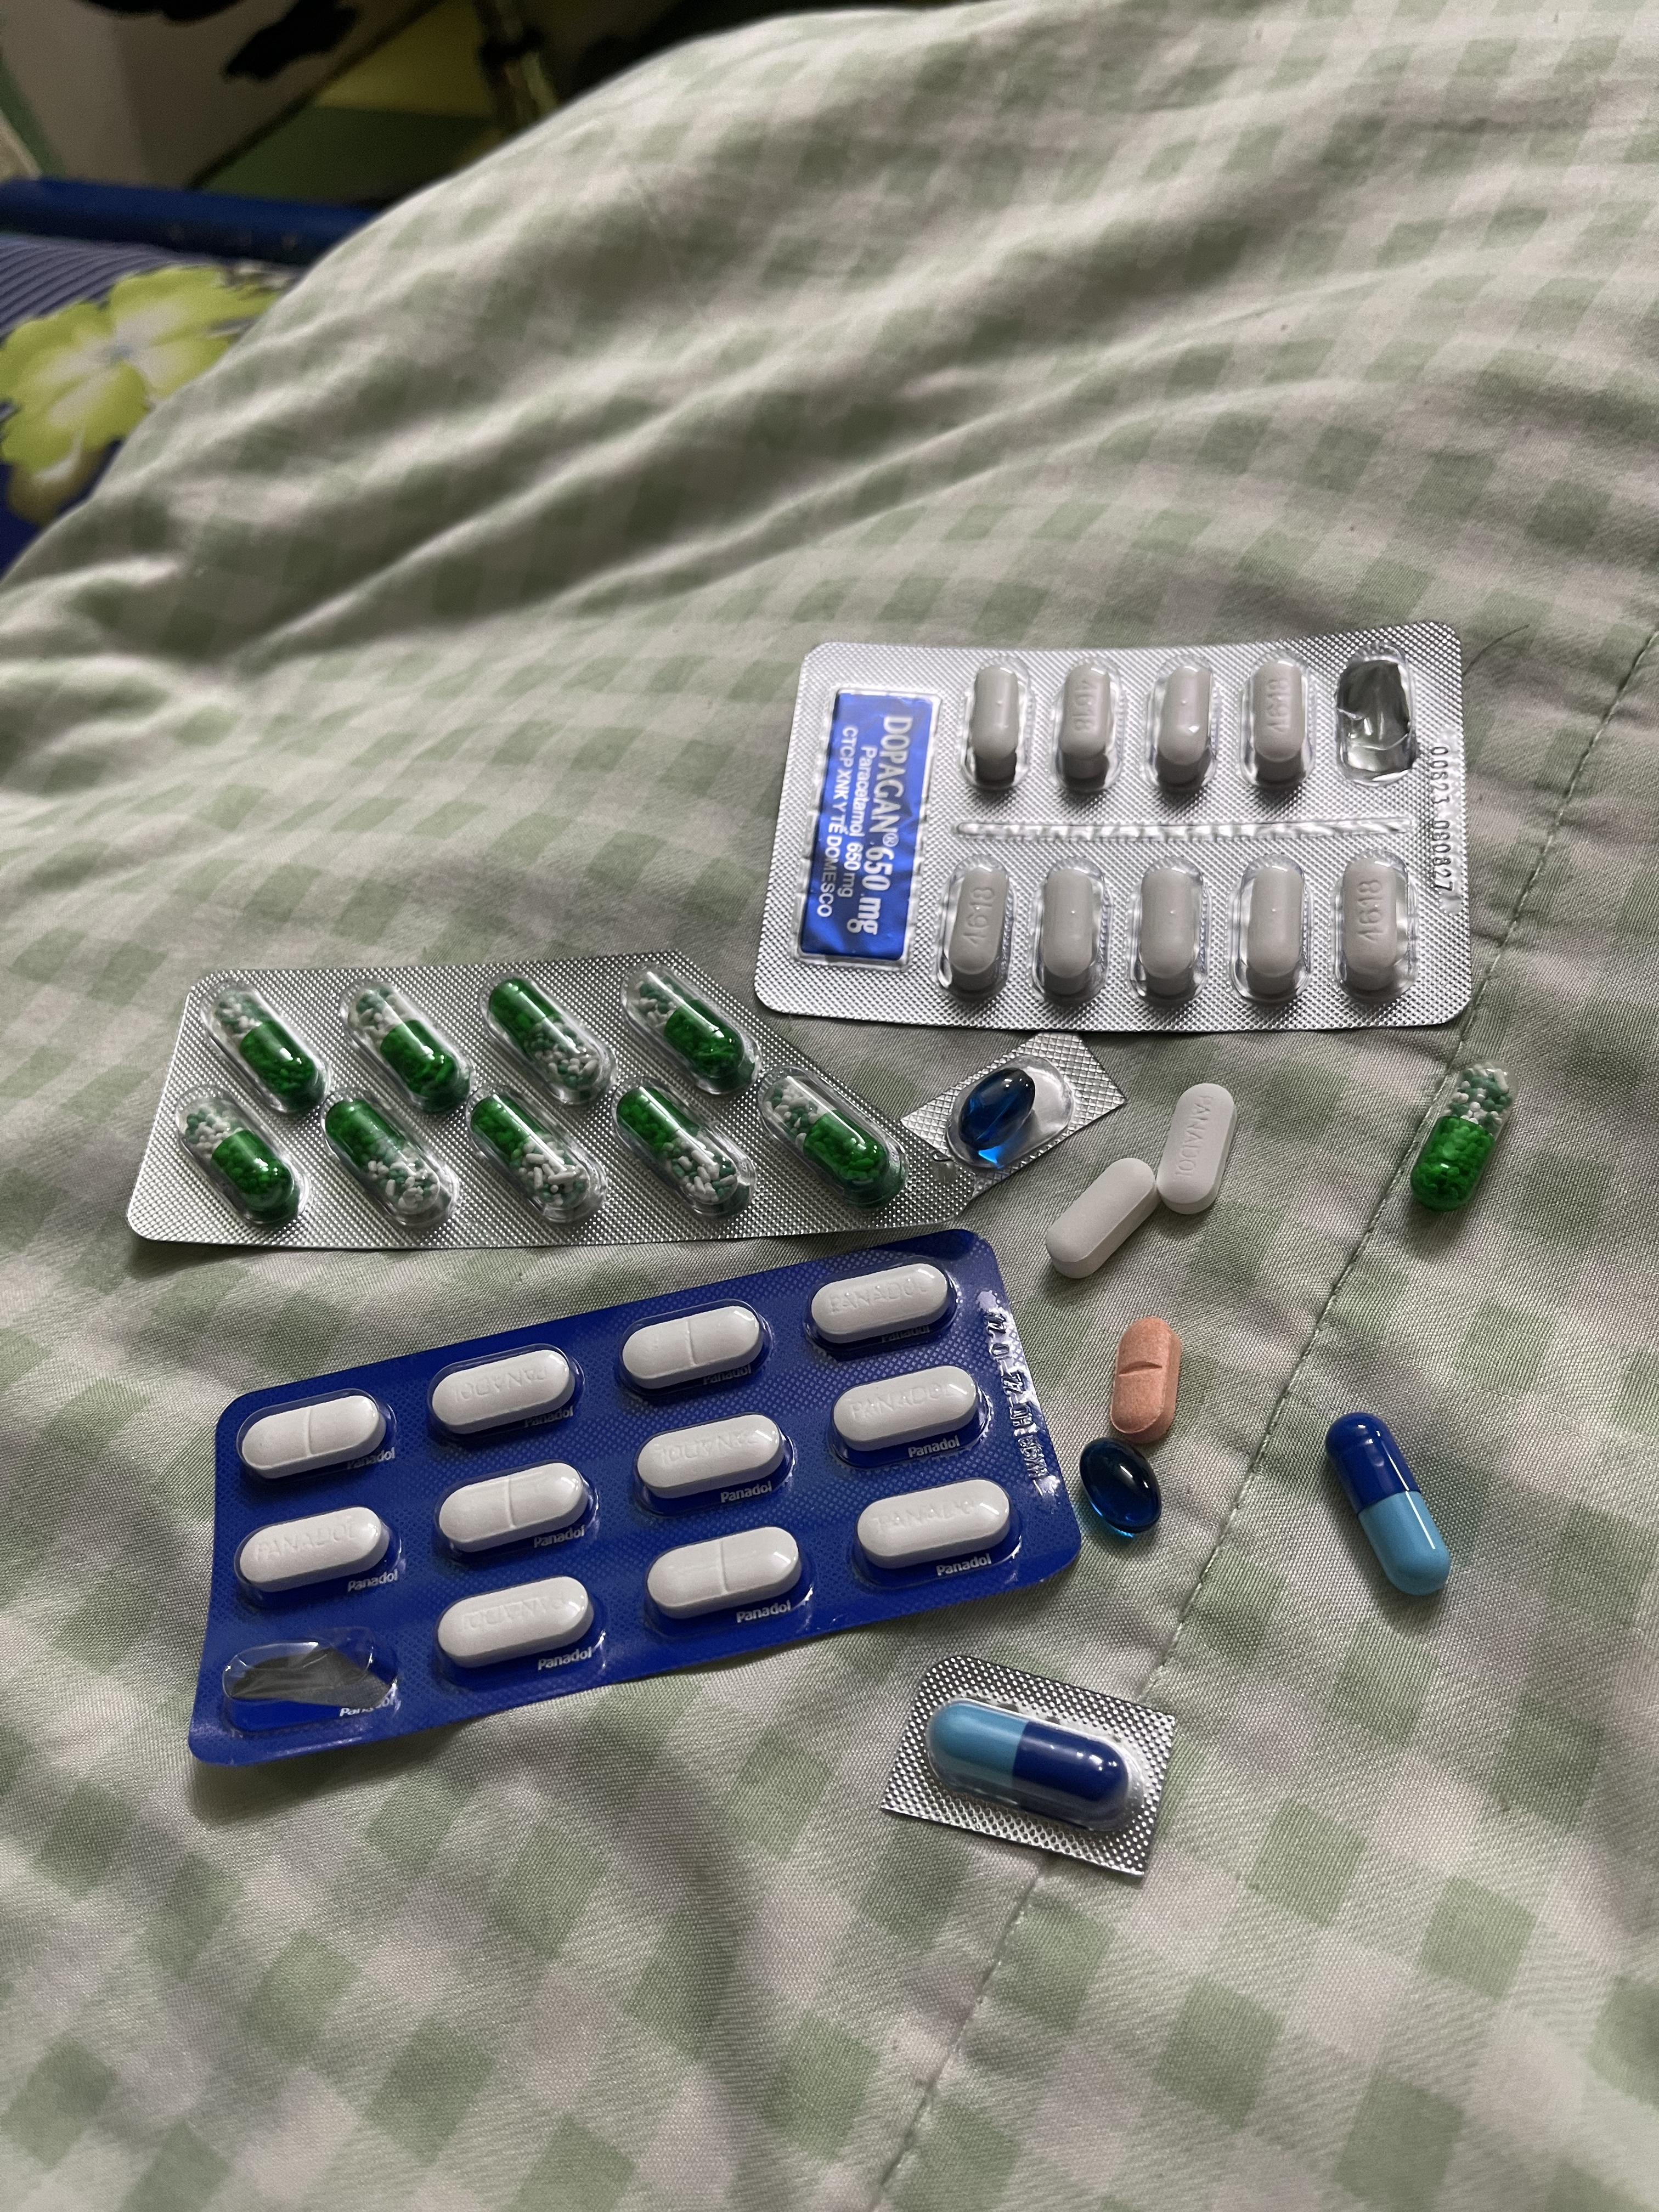Lincomyxin_500mg: (1079, 1439, 1162, 1534), (958, 1066, 1042, 1155)
Loratadine_10mg: (1114, 1313, 1187, 1439)
Paracetamol_350mg: (237, 1505, 394, 1597), (647, 1527, 800, 1622), (439, 1578, 598, 1669), (439, 1465, 592, 1557), (430, 1345, 580, 1439), (638, 1413, 789, 1505), (857, 1479, 1009, 1569), (239, 1392, 385, 1480), (833, 1367, 976, 1454), (622, 1306, 765, 1393), (814, 1261, 951, 1345), (1152, 1082, 1237, 1216)
Paracetamol_500mg: (1042, 1157, 1159, 1278), (1338, 857, 1412, 995), (1136, 859, 1202, 993), (941, 866, 1011, 993), (1244, 860, 1307, 998), (1037, 866, 1103, 995), (1058, 662, 1119, 789), (1155, 662, 1215, 789), (1249, 657, 1309, 782), (969, 664, 1026, 786)
Paracetamol_650mg: (486, 968, 626, 1106), (627, 956, 765, 1089), (321, 1092, 455, 1226), (345, 982, 477, 1118), (471, 1089, 603, 1219), (206, 984, 331, 1118), (617, 1082, 741, 1209), (1410, 1064, 1514, 1211), (181, 1096, 295, 1219), (777, 1080, 889, 1195)
pill: (929, 1696, 1143, 1832), (1324, 1407, 1455, 1594)
